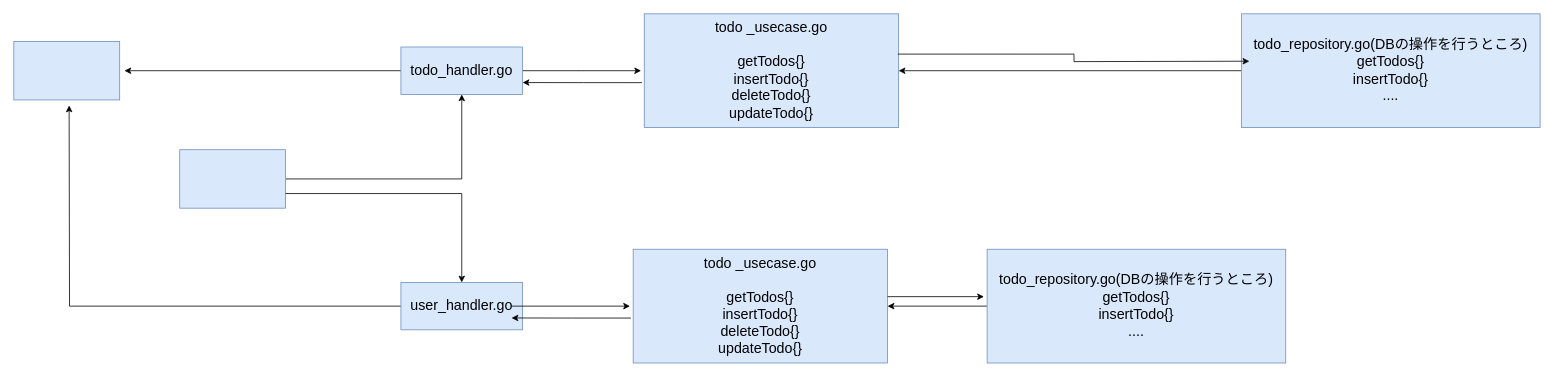
Some shapes in this 1554 by 377 pixel diagram are drawn without their labels. The centre of each missing label's shape, as x and y in pixels:
"main.go gin(api) gorm(Mapping)" belongs at point (232, 178).
"画面" belongs at point (66, 70).
